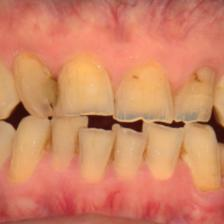cavity: (44, 75, 62, 115), (132, 73, 155, 89), (192, 68, 210, 88), (70, 133, 85, 154), (45, 127, 56, 154), (109, 136, 119, 164), (177, 138, 189, 161), (140, 141, 152, 161)
